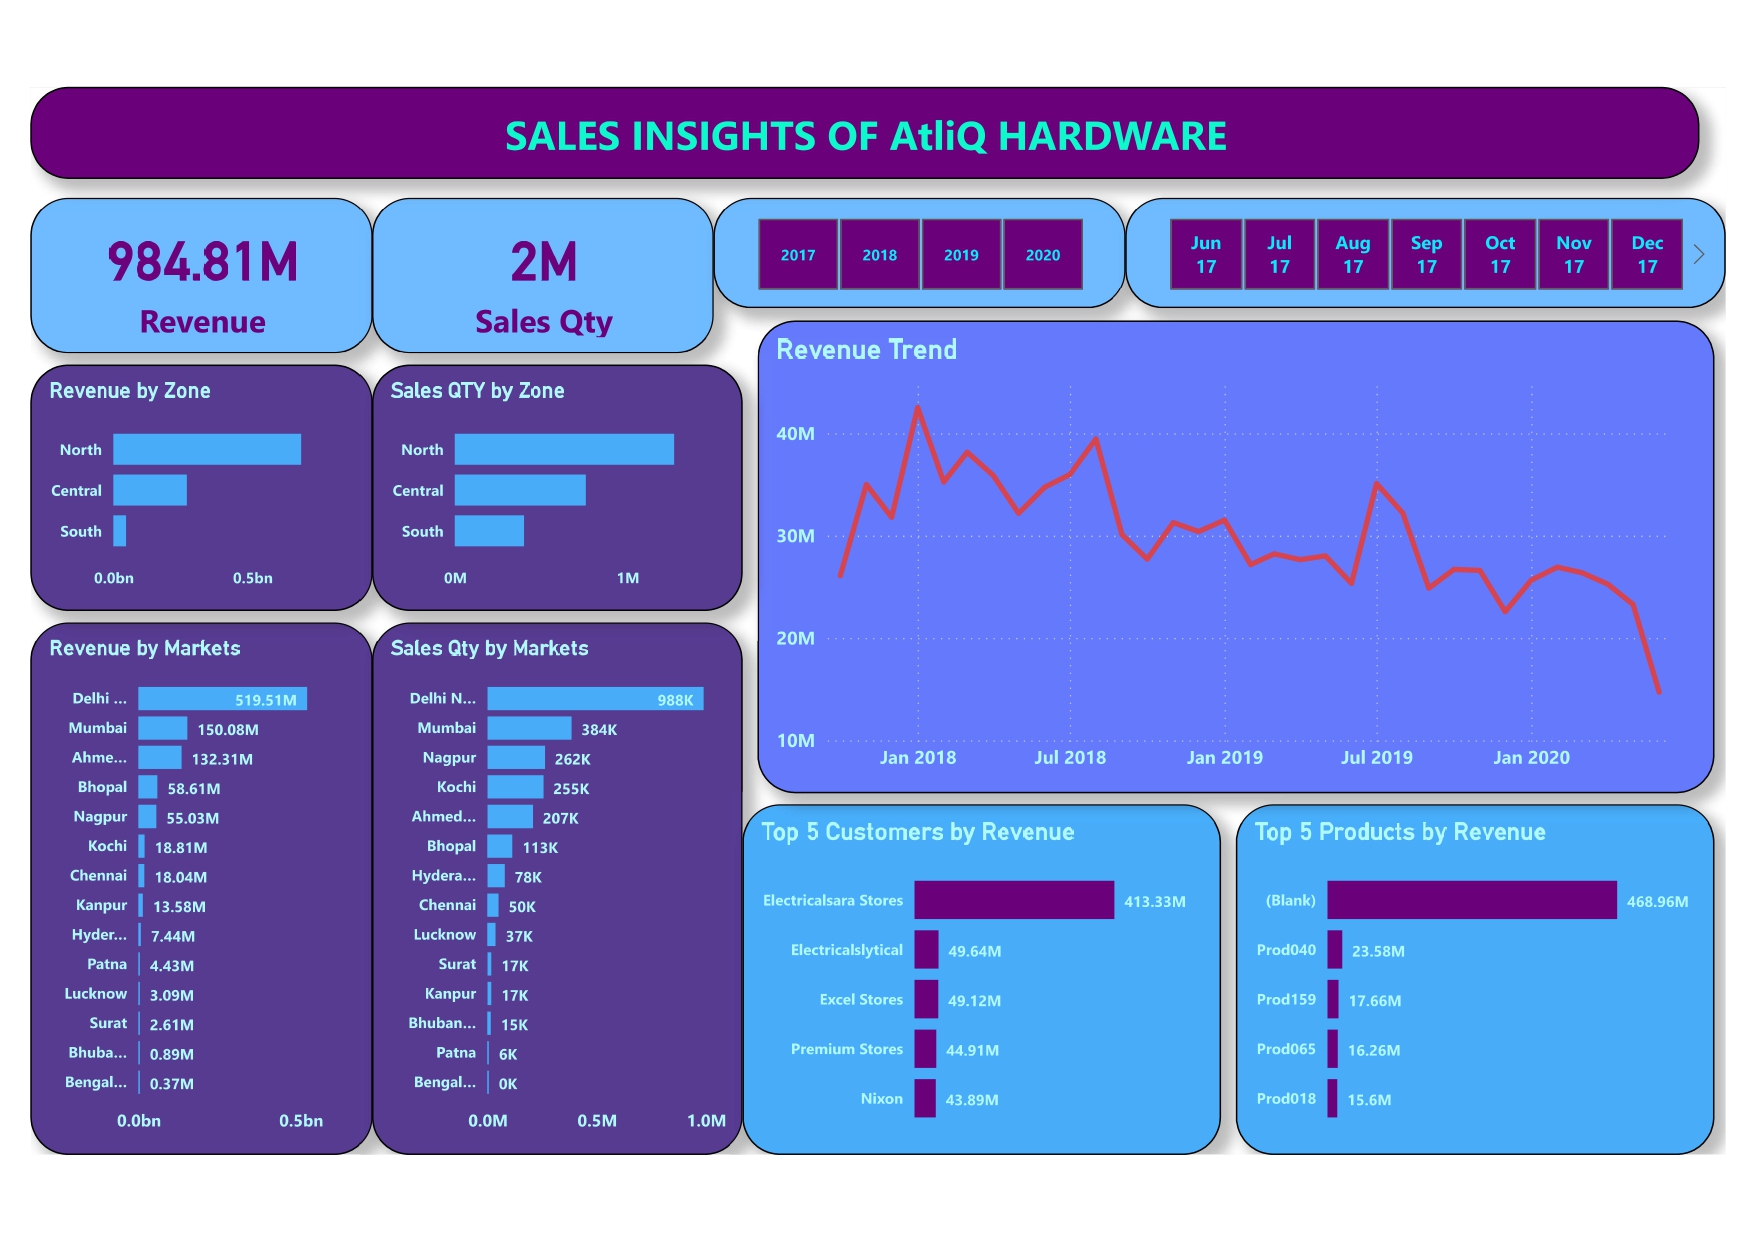

This screenshot's page, from the dashboard's own definition file:
{"tool":"powerbi","page":{"name":"Page 1","canvas":[1350,850],"ordinal":0},"visuals":[{"type":"card","fields":{"Values":["BaseMeasures.Revenue"]},"box":[0,88.1,271.8,124.1],"z":0},{"type":"card","fields":{"Values":["BaseMeasures.Sales Qty"]},"box":[271.8,88.1,271.8,124.1],"z":1000},{"type":"barChart","title":"Revenue by Markets","fields":{"Y":["BaseMeasures.Revenue"],"Category":["sales markets.markets_name"]},"box":[0,425.6,271.8,424.4],"z":2000},{"type":"barChart","title":"Sales Qty by Markets","fields":{"Y":["BaseMeasures.Sales Qty"],"Category":["sales markets.markets_name"]},"box":[271.8,425.6,295.3,424.4],"z":3000},{"type":"slicer","fields":{"Values":["sales date.year"]},"box":[543.5,88.1,328.8,88.1],"z":4000},{"type":"slicer","fields":{"Values":["sales date.cy_date"]},"box":[872.3,88.1,477.7,88.1],"z":5000},{"type":"barChart","title":"Top 5 Customers by Revenue","fields":{"Y":["BaseMeasures.Revenue"],"Category":["sales customers.custmer_name"]},"box":[567.1,570.8,380.9,279.2],"z":6000},{"type":"barChart","title":"Top 5 Products by Revenue","fields":{"Y":["BaseMeasures.Revenue"],"Category":["sales products.product_code"]},"box":[960.4,570.8,380.9,279.2],"z":7000},{"type":"lineChart","title":"Revenue Trend","fields":{"Y":["BaseMeasures.Revenue"],"Category":["sales date.cy_date.Variation.Date Hierarchy.Year","sales date.cy_date.Variation.Date Hierarchy.Quarter","sales date.cy_date.Variation.Date Hierarchy.Month","sales date.cy_date.Variation.Date Hierarchy.Day"]},"box":[579.5,186.1,761.9,376],"z":8000},{"type":"textbox","box":[0,0,1329,73.2],"z":9000},{"type":"barChart","title":"Revenue by Zone","fields":{"Category":["sales markets.zone"],"Y":["BaseMeasures.Revenue"]},"box":[0,220.9,271.8,196.1],"z":10000},{"type":"barChart","title":"Sales QTY by Zone","fields":{"Category":["sales markets.zone"],"Y":["sales transactions.sales_qty"]},"box":[271.8,220.9,295.3,196.1],"z":11000}]}

Visuals, with their boxes in screenshot pixels (x1, y1, x2, y2):
card - BaseMeasures.Revenue: <bbox>23, 191, 371, 350</bbox>
card - BaseMeasures.Sales Qty: <bbox>371, 191, 720, 350</bbox>
"Revenue by Markets" barChart: <bbox>23, 623, 371, 1167</bbox>
"Sales Qty by Markets" barChart: <bbox>371, 623, 750, 1167</bbox>
slicer - sales date.year: <bbox>720, 191, 1141, 304</bbox>
slicer - sales date.cy_date: <bbox>1141, 191, 1754, 304</bbox>
"Top 5 Customers by Revenue" barChart: <bbox>750, 809, 1238, 1167</bbox>
"Top 5 Products by Revenue" barChart: <bbox>1254, 809, 1742, 1167</bbox>
"Revenue Trend" lineChart: <bbox>766, 316, 1743, 798</bbox>
textbox: <bbox>23, 78, 1727, 172</bbox>
"Revenue by Zone" barChart: <bbox>23, 361, 371, 612</bbox>
"Sales QTY by Zone" barChart: <bbox>371, 361, 750, 612</bbox>
